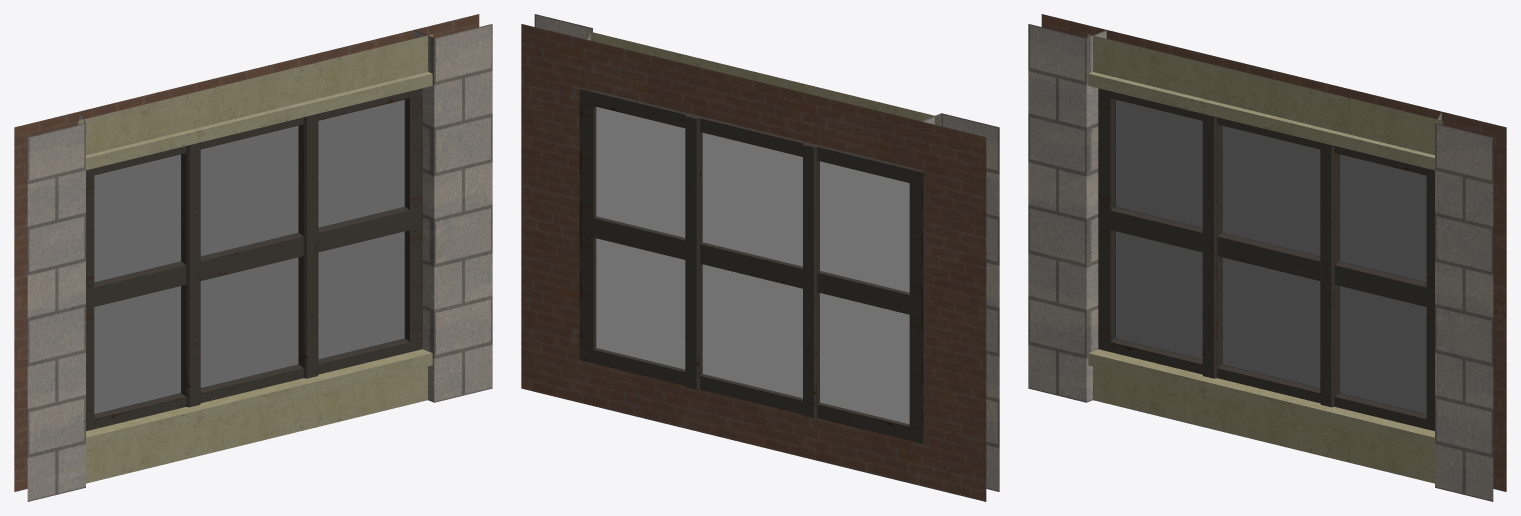
The model's file is WhiteBrick_Window.gltf.
The picture shows the model from 3 angles, left to right: view 1: azimuth 30°, elevation 25°; view 2: azimuth 150°, elevation 25°; view 3: azimuth 330°, elevation 25°; orthographic projection.
Visible parts, largest first — view 1: WhiteBrick_Window; view 2: WhiteBrick_Window; view 3: WhiteBrick_Window.
Boxes of the visible parts, x1,y1,x2,y2 form: WhiteBrick_Window: (14, 14, 492, 501); WhiteBrick_Window: (521, 14, 999, 501); WhiteBrick_Window: (1028, 14, 1506, 501).
Size of the model in its own units: 4 by 3 by 0.2562.
6 materials, 4 textured.
